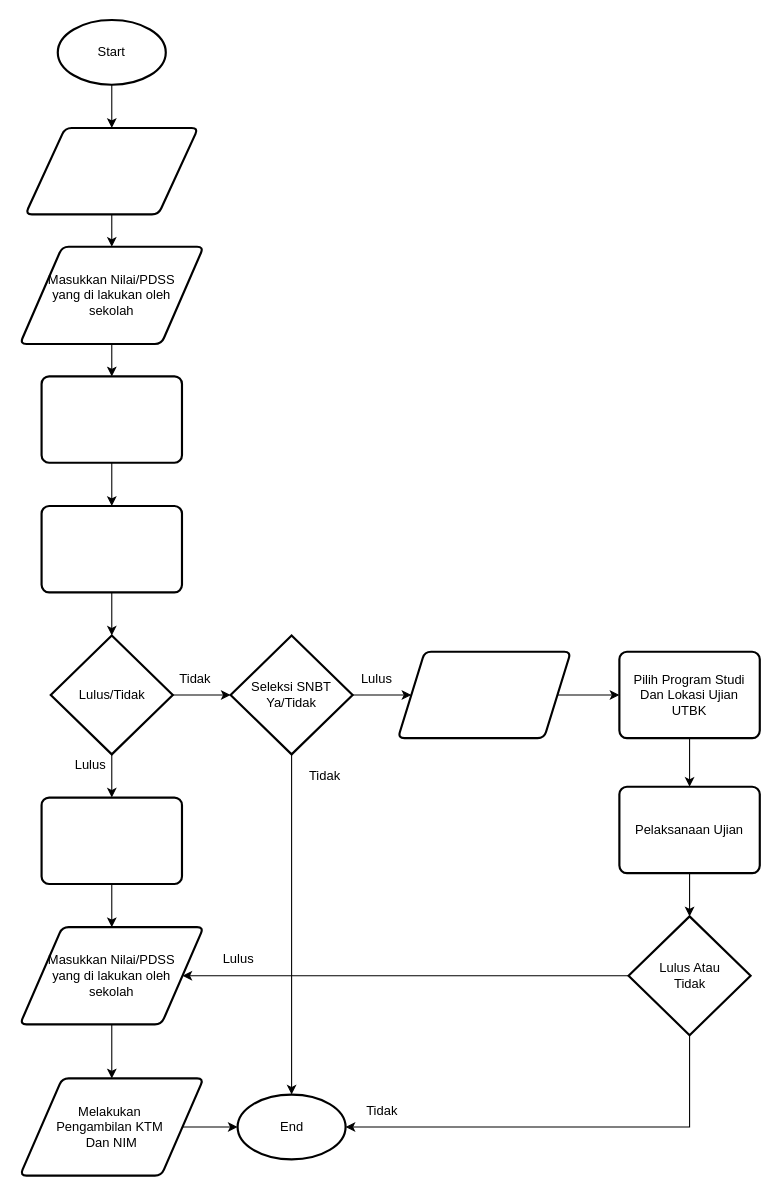
This 779x1194 diagram has some shape labels left out. Here are the shapes that lost their labels. From the top down, the box of each, then its label:
(24, 126, 199, 215): Pembuatan Akun Seleksi Masuk SMPNM
(40, 375, 183, 463): Memilih Program Studi Dan Kampus Yang Di Tuju
(40, 504, 183, 593): Seleksi Di Lakukan Oleh Panitia SMPMB
(396, 650, 571, 739): Daftar Akun, Verifikasi Pembayaran dan Download
(40, 796, 183, 885): Calon Mahasiswa Melakukan Daftar ulang
